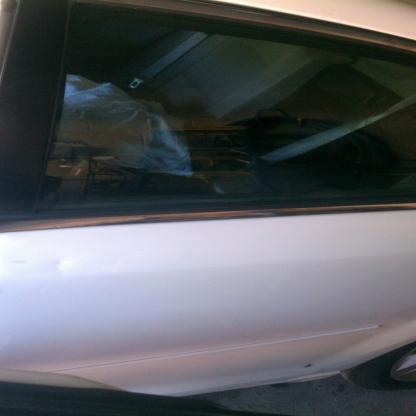Car: (1, 1, 416, 399)
